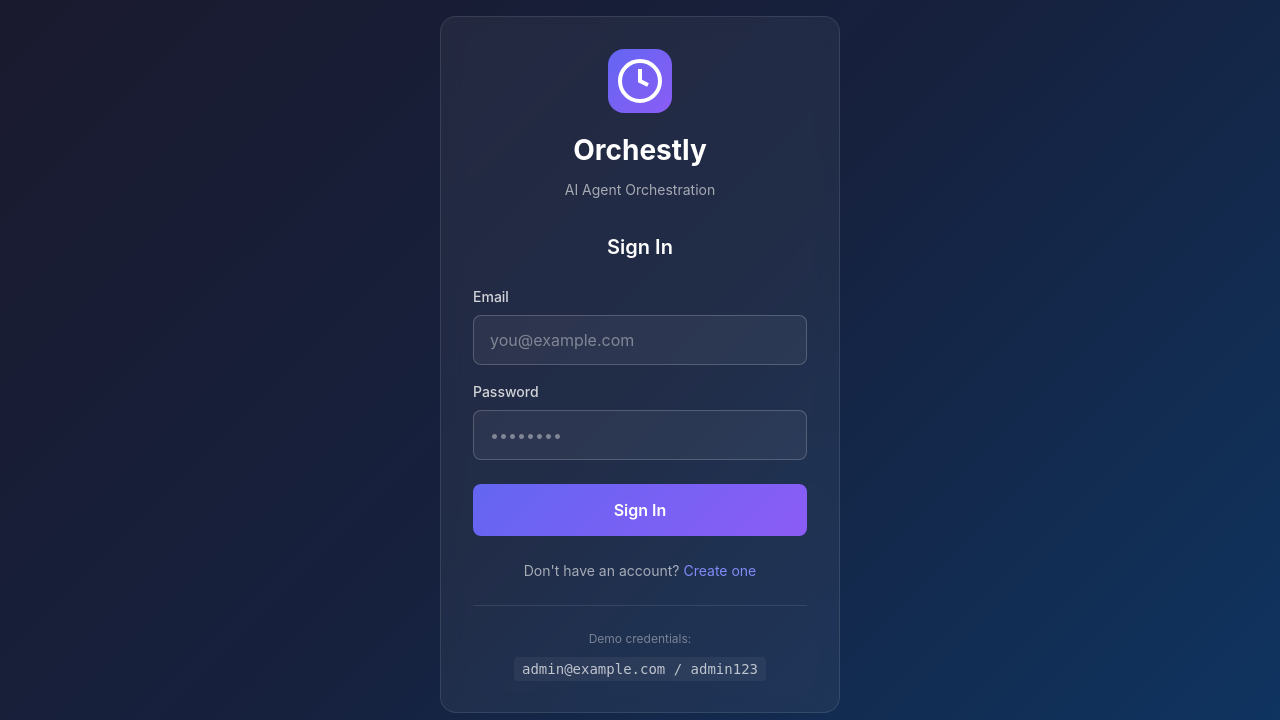
LoginPage › Registration Form › toggles to registration mode
Click the button "Create one".
click(720, 570)  # box left=684, top=560, right=756, bottom=581
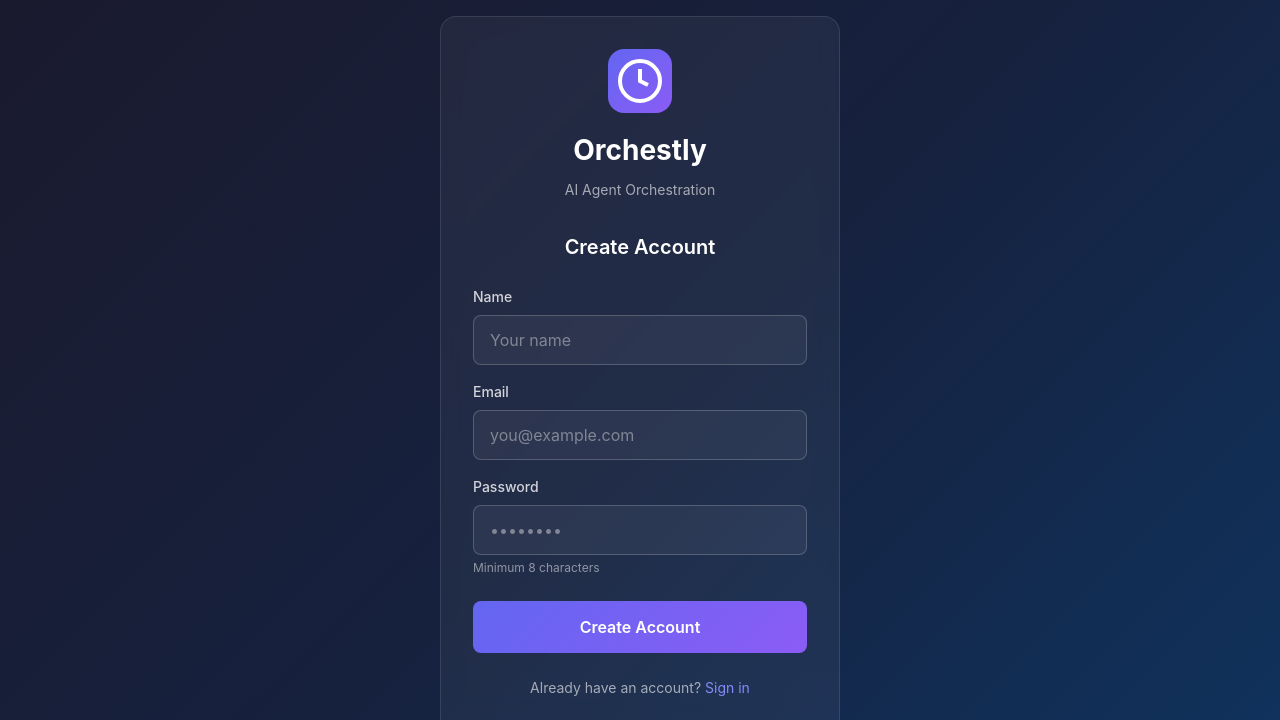
Now the field labelled "Name" is shown, box left=473, top=315, right=807, bottom=365
